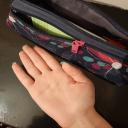OpenPalm: (11, 44, 96, 121)
